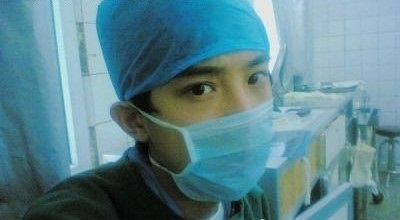face_mask: (153, 29, 274, 197)
